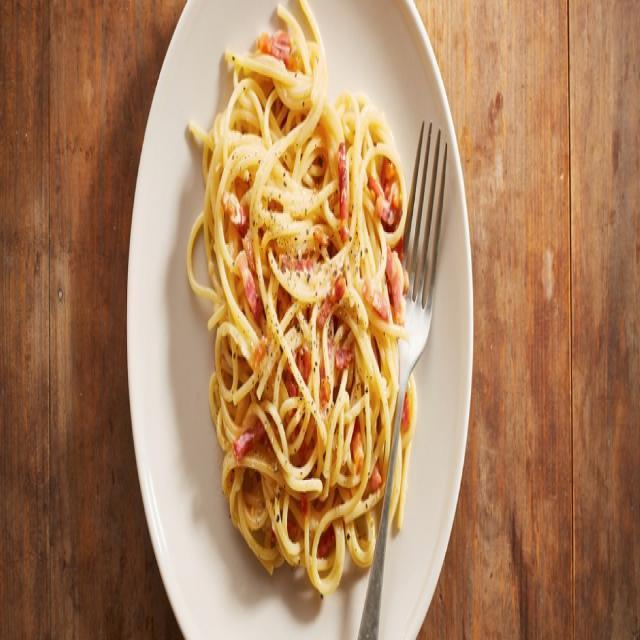Pasta with carbonara sauce: (164, 15, 494, 599)
